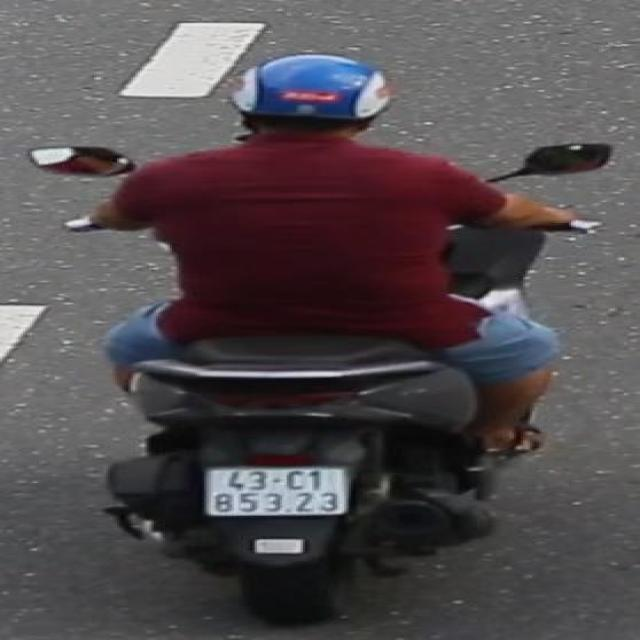LP: (199, 461, 358, 520)
helmet: (226, 48, 398, 148)
